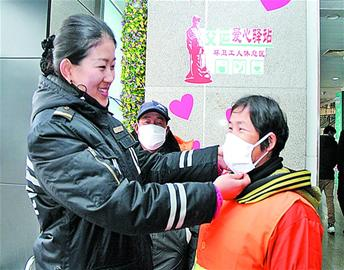face: (72, 42, 115, 107)
face_mask: (222, 108, 264, 166), (139, 111, 165, 148)
